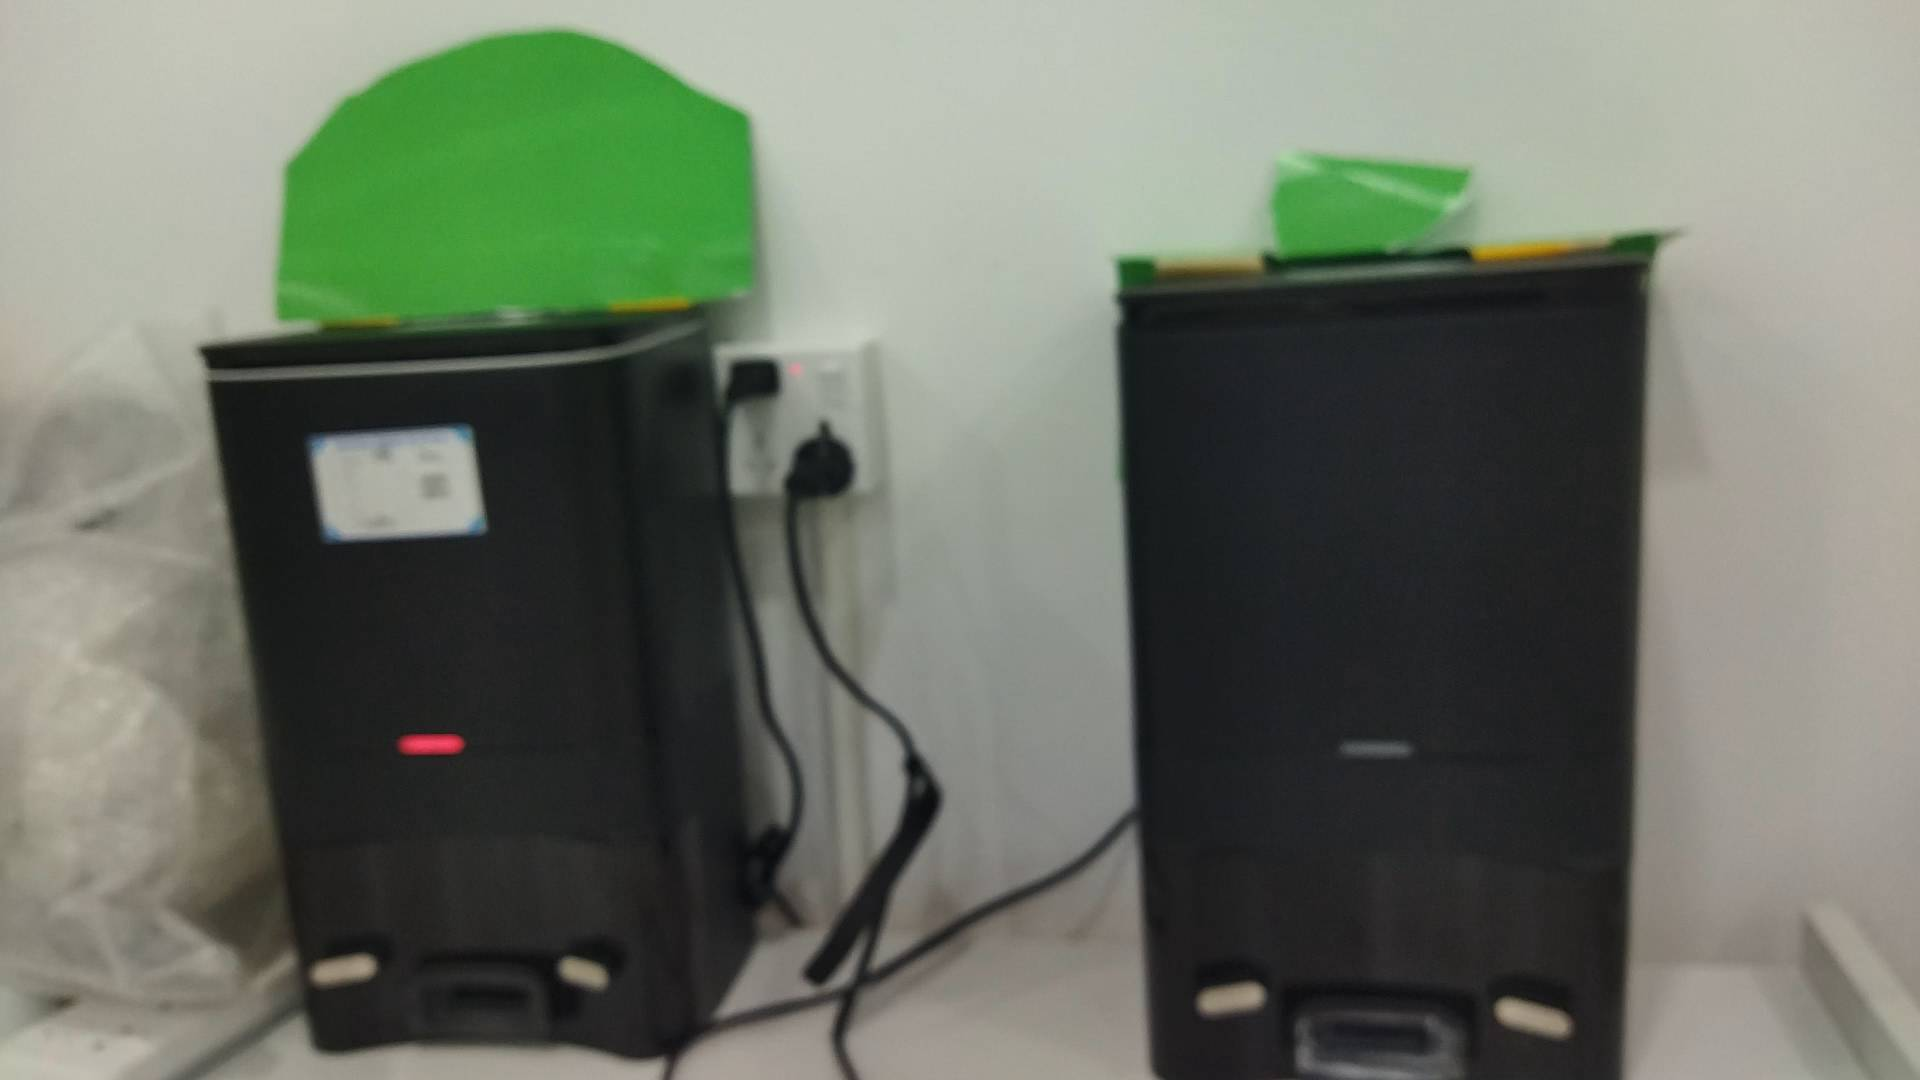dust collecting barrel: (1116, 251, 1658, 1080), (198, 310, 752, 1063)
